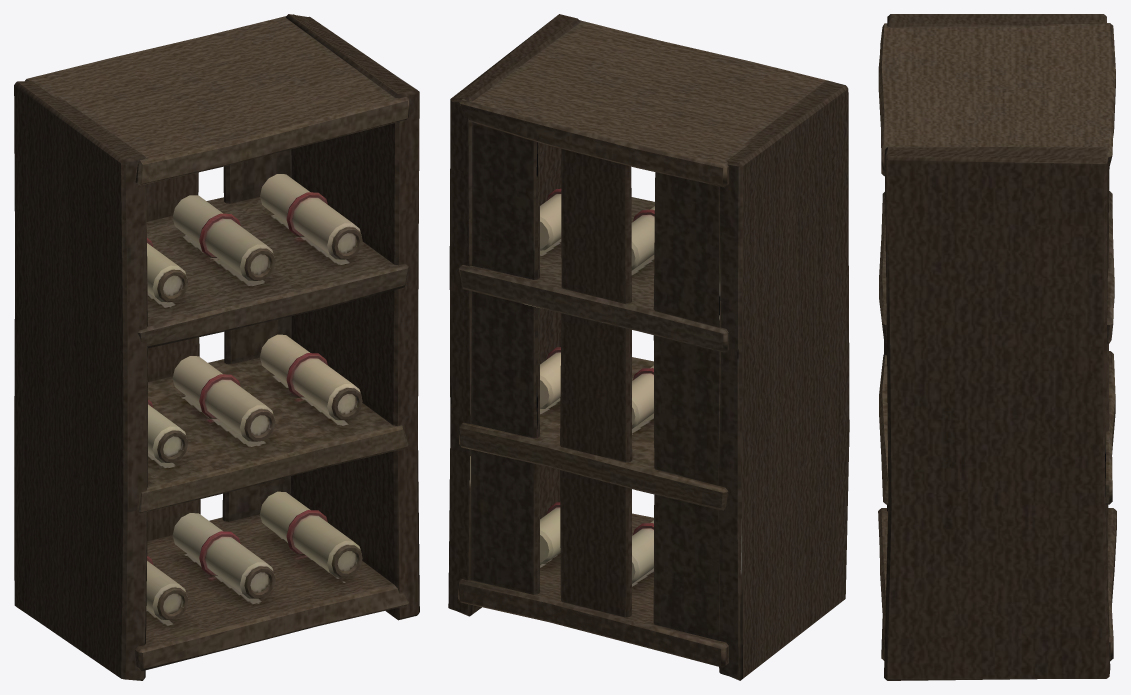
Rendered from scroll_rack.glb.
3 views of the same model, side by side, from view 1: azimuth 30°, elevation 25°; view 2: azimuth 150°, elevation 25°; view 3: azimuth 270°, elevation 25° (orthographic).
Parts seen in each view (by area): view 1: scroll_rack; view 2: scroll_rack; view 3: scroll_rack.
Part boxes in pixels (x1,y1,x2,y2): scroll_rack: (14, 14, 419, 680); scroll_rack: (448, 14, 849, 680); scroll_rack: (878, 14, 1116, 680).
Bounding box in the file's own units: 0.8524 × 1.44 × 0.5939.
1 material, 1 textured.
